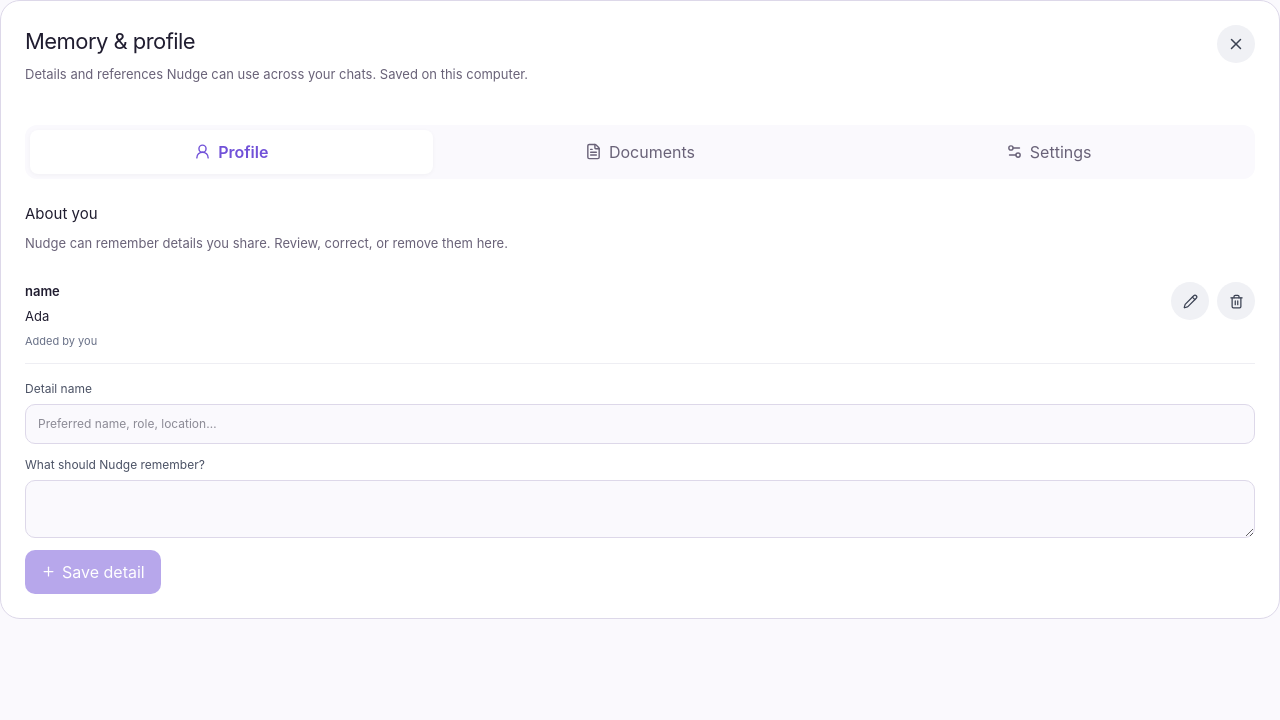
it: memory tabs and document drop zone › shows a failed profile save without losing entered text
In the field labelled "Detail name": [640, 424] box 25,404 -> 1255,444, type "Role"
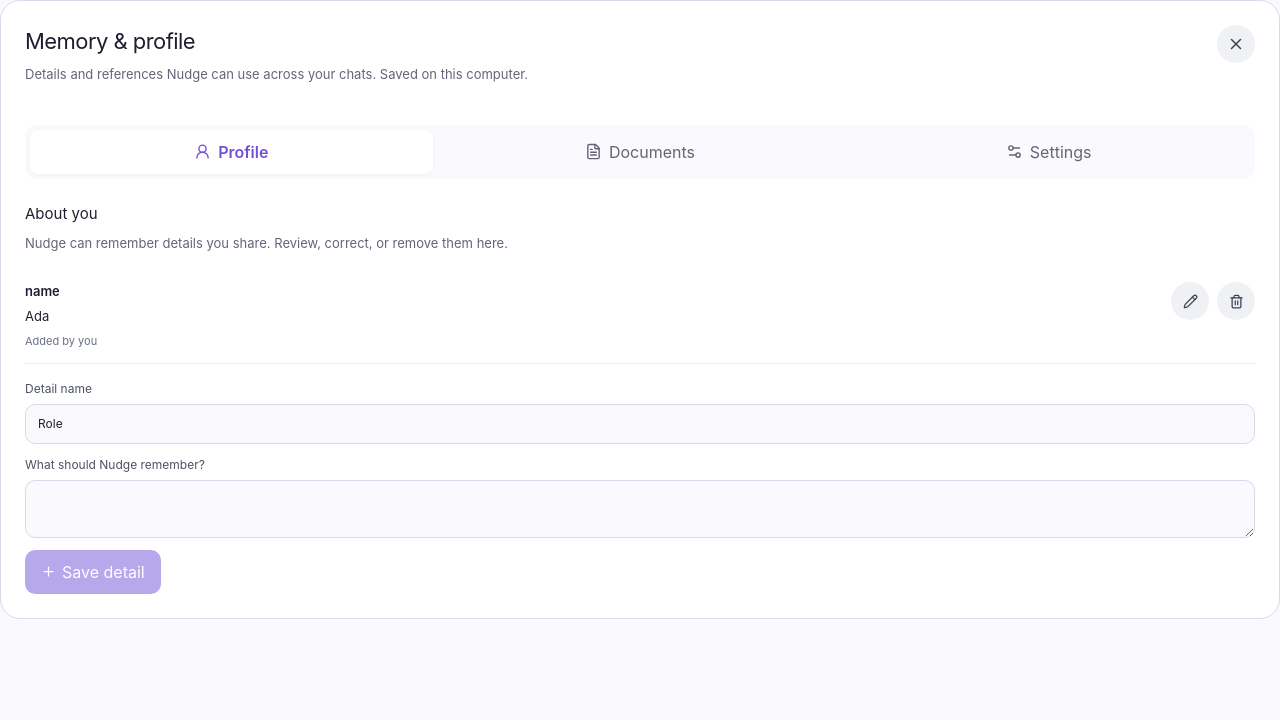
In the text box labelled "What should Nudge remember?": [640, 509] box 25,480 -> 1255,538, type "Designer"
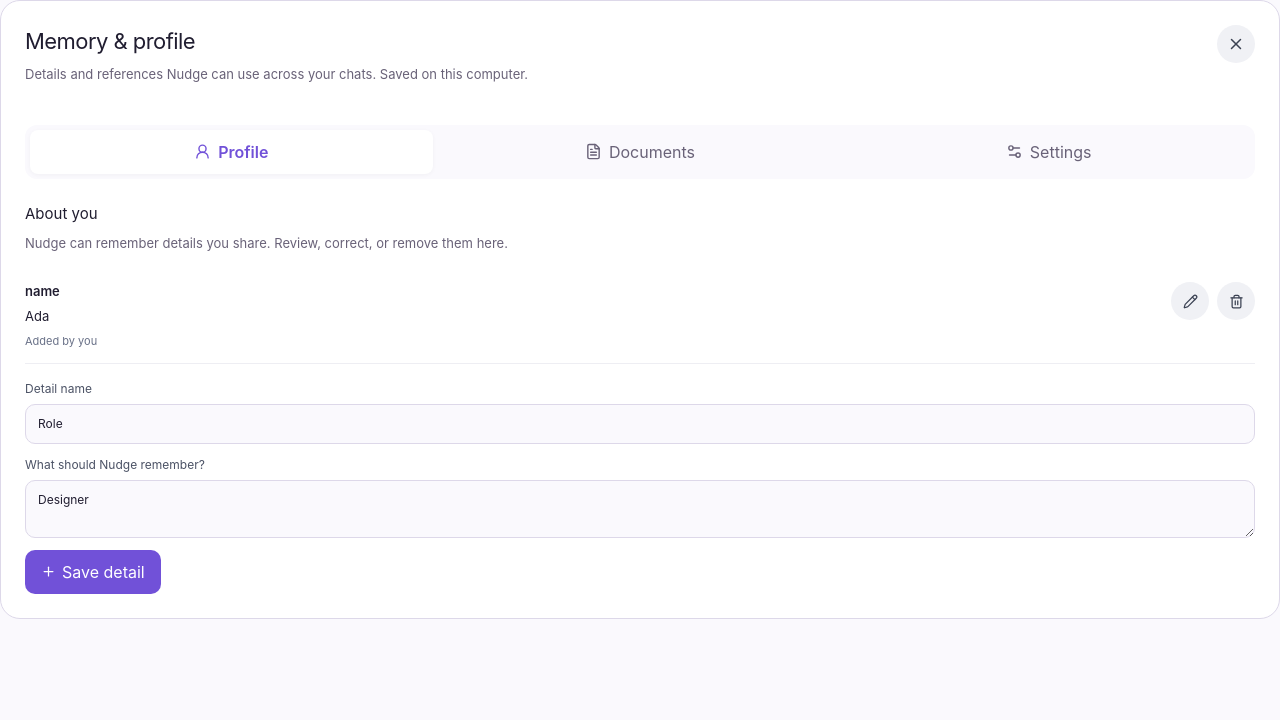
Click the button "Save detail": [93, 572] box 25,550 -> 161,594
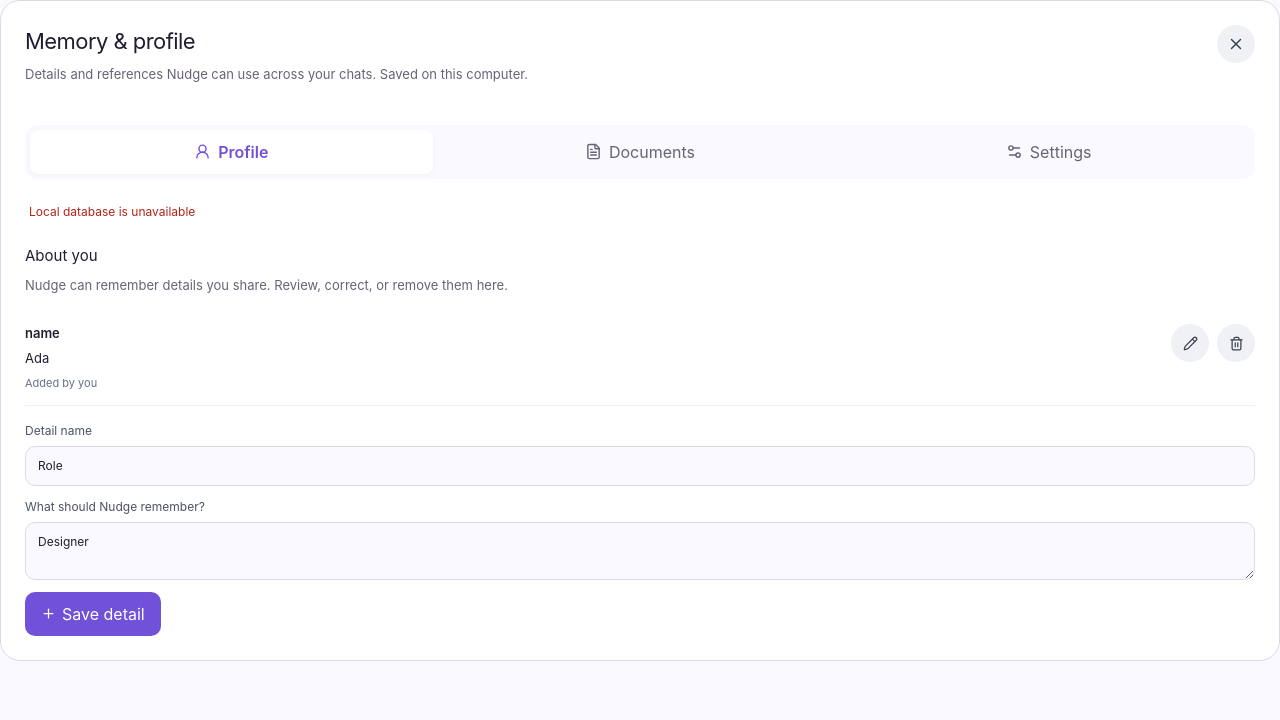
Expected: the message reads "Local database is unavailable", 29,204 -> 195,219
